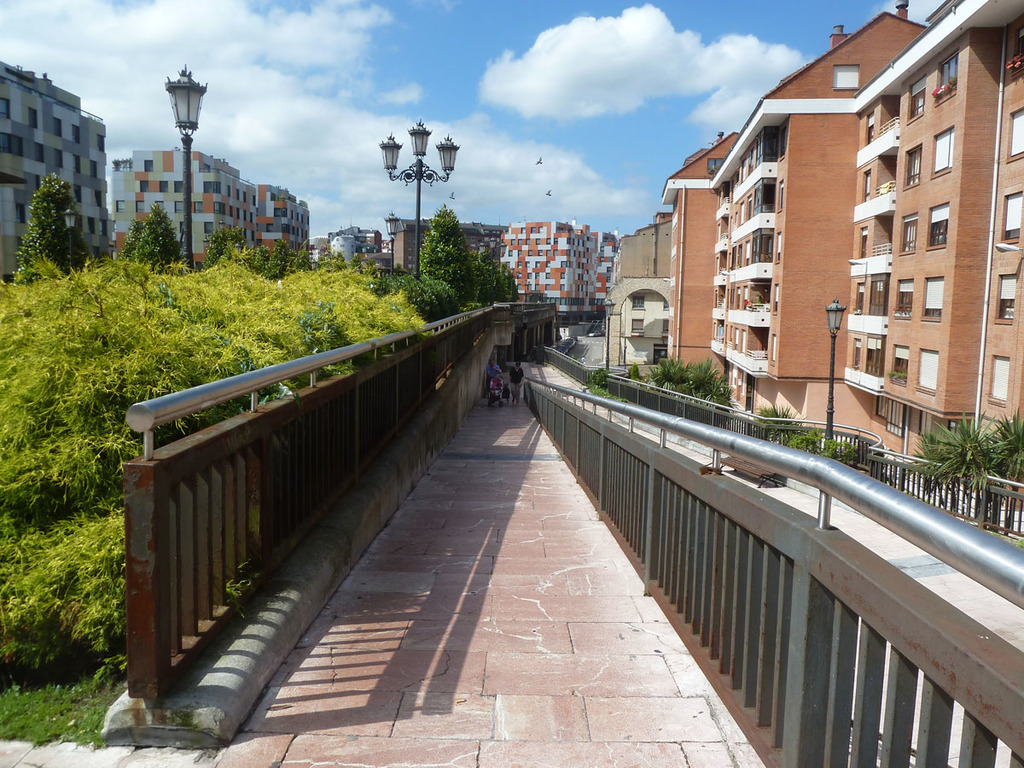Tree: (0, 168, 523, 653), (909, 408, 1023, 533), (14, 169, 97, 283), (419, 203, 476, 306), (116, 201, 187, 273), (675, 356, 727, 397), (471, 237, 500, 310), (748, 397, 797, 434), (643, 354, 687, 394), (699, 376, 737, 413), (500, 264, 519, 307), (628, 360, 638, 378)
